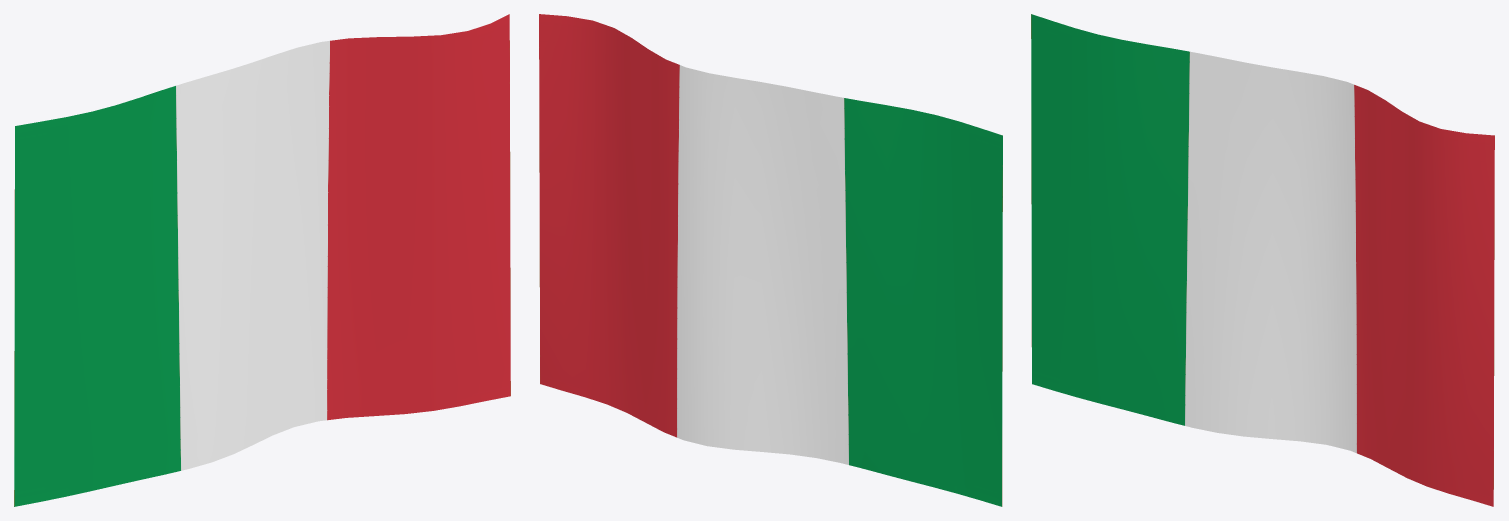
File: IT_Italy.glb
The picture shows the model from 3 angles, left to right: view 1: azimuth 30°, elevation 25°; view 2: azimuth 150°, elevation 25°; view 3: azimuth 330°, elevation 25°; orthographic projection. The views are drawn at different scales.
Parts seen in each view (by area): view 1: IT_flag; view 2: IT_flag; view 3: IT_flag.
Part boxes in pixels (x1=…): IT_flag: x1=14, y1=14, x2=510, y2=506; IT_flag: x1=539, y1=14, x2=1002, y2=506; IT_flag: x1=1031, y1=14, x2=1494, y2=506.
Bounding box in the file's own units: 1.33 × 1 × 0.1347.
Materials: 1 (1 with a texture image).
